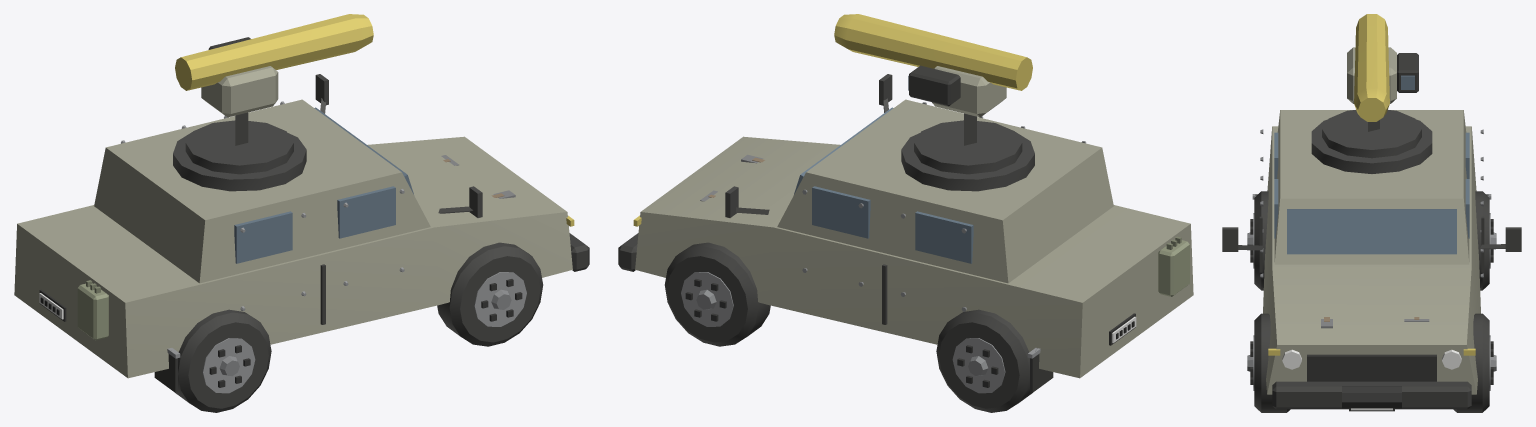
Rendered from tjeep.glb.
3 renders of one model, left to right at view 1: azimuth 30°, elevation 25°; view 2: azimuth 150°, elevation 25°; view 3: azimuth 270°, elevation 25°, orthographic. The views are drawn at different scales.
Parts seen in each view (by area): view 1: hull, turret; view 2: hull, turret; view 3: hull, turret.
Boxes of the visible parts, x1,y1,x2,y2 form: hull: [14, 74, 589, 412]; turret: [175, 14, 373, 174]; hull: [618, 74, 1193, 412]; turret: [834, 14, 1032, 174]; hull: [1222, 110, 1521, 412]; turret: [1322, 14, 1421, 158].
Bounding box in the file's own units: 5.25 × 3.11 × 3.
